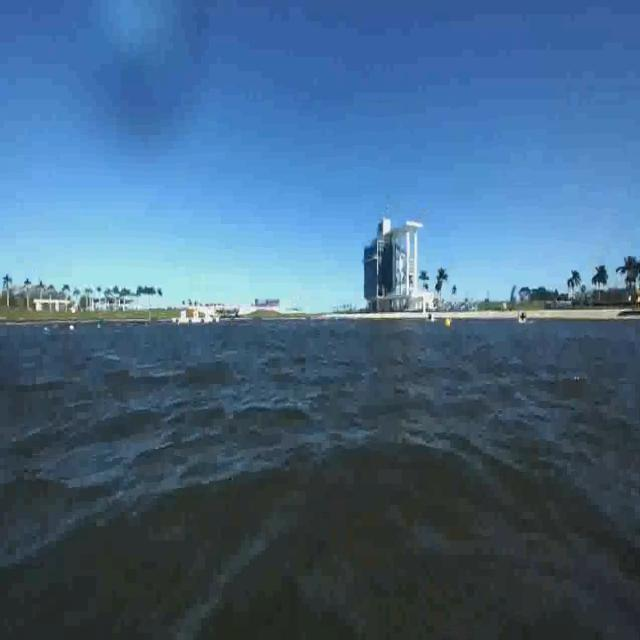yellow-buoy: (446, 316, 453, 329)
